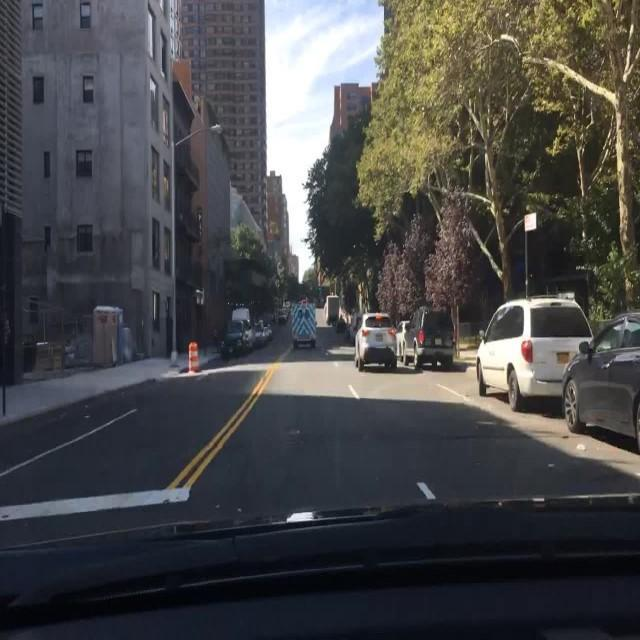normal: (465, 240, 640, 473), (322, 285, 490, 382)
